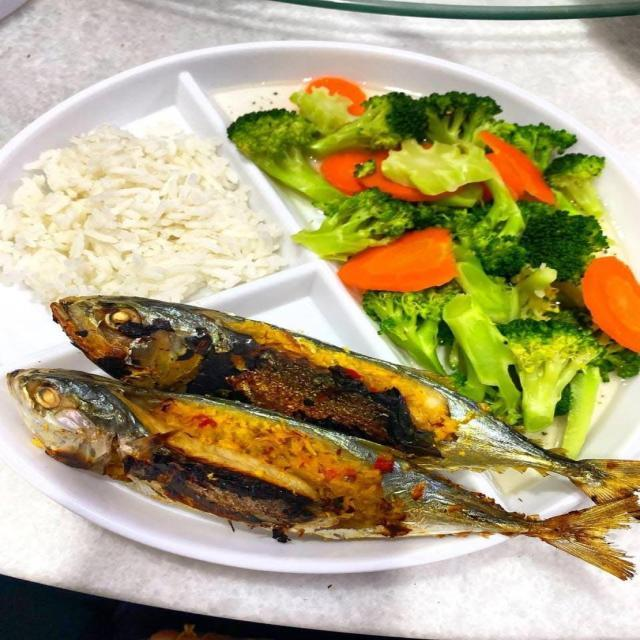Fish: (0, 294, 639, 579)
Plate: (0, 43, 605, 196)
Rice: (0, 123, 294, 302)
Vegetables: (225, 77, 639, 457)
